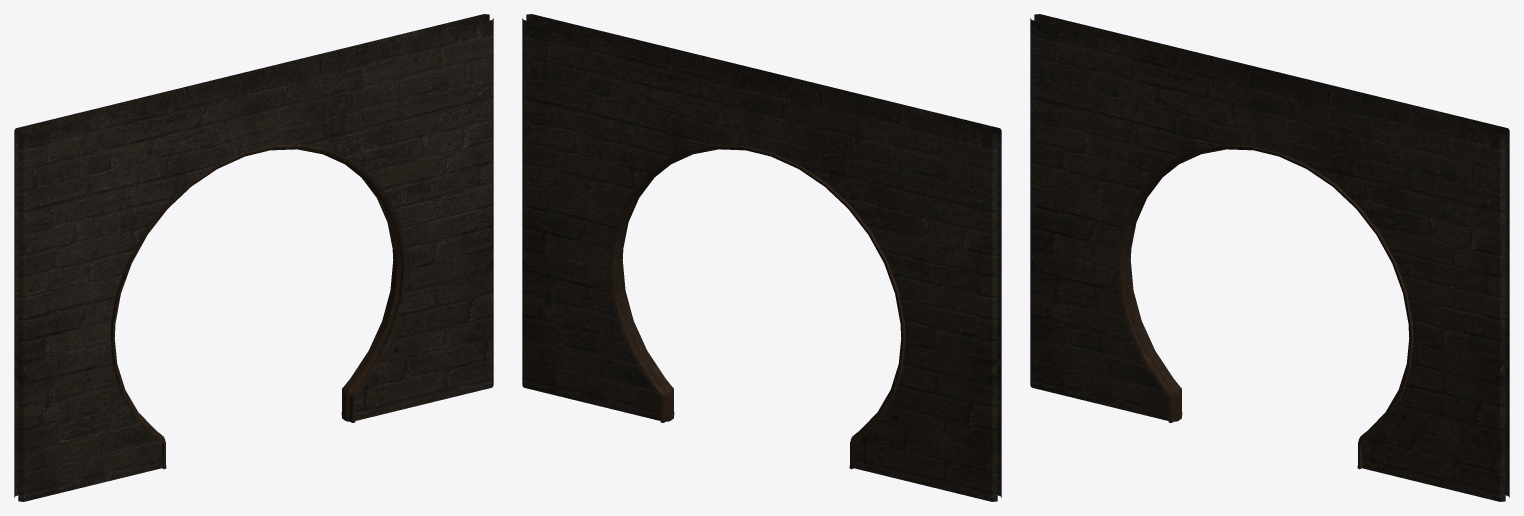
File: wall_1_tunnel_hole.obj
3 views of the same model, side by side, from view 1: azimuth 30°, elevation 25°; view 2: azimuth 150°, elevation 25°; view 3: azimuth 330°, elevation 25° (orthographic).
Visible parts, largest first — view 1: wall_1_tunnel_hole; view 2: wall_1_tunnel_hole; view 3: wall_1_tunnel_hole.
Boxes of the visible parts, x1=… form: wall_1_tunnel_hole: x1=14, y1=14, x2=493, y2=501; wall_1_tunnel_hole: x1=522, y1=14, x2=1001, y2=501; wall_1_tunnel_hole: x1=1030, y1=14, x2=1509, y2=501.
Bounding box in the file's own units: 4.06 × 3 × 0.1697.
